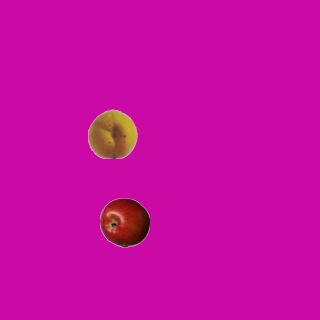Apple Braeburn: (99, 197, 149, 247)
Peach 2: (87, 108, 137, 158)
